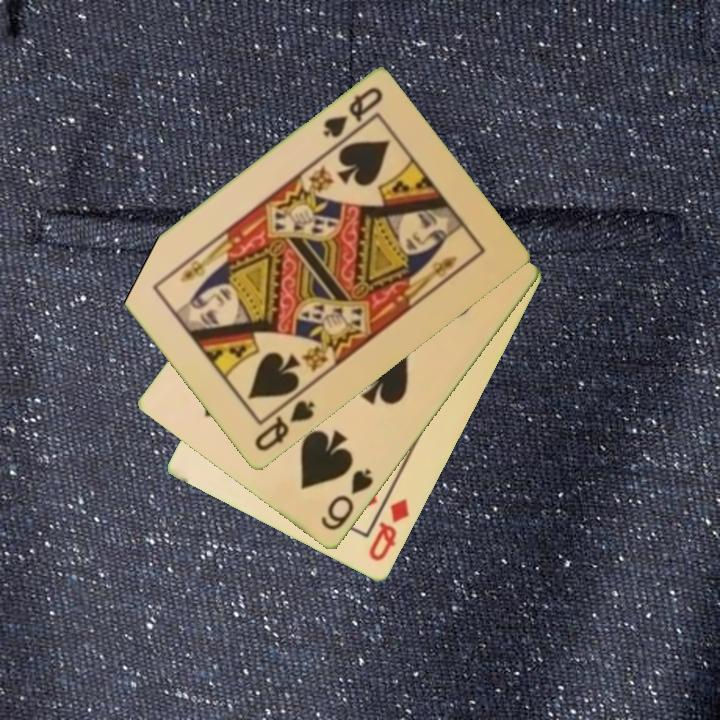6s: (317, 465, 377, 534)
Qd: (365, 495, 412, 565)
Qs: (250, 397, 318, 455), (319, 84, 386, 141)
